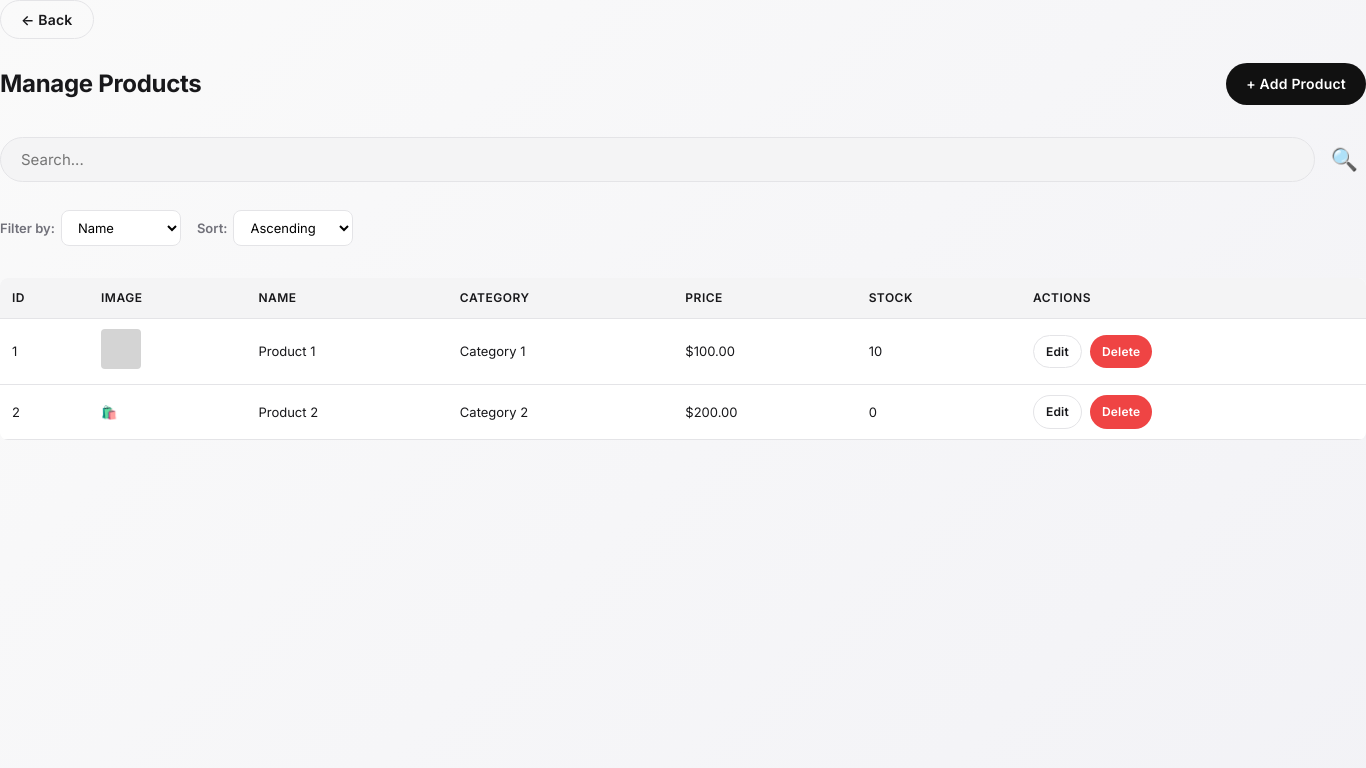
it: AdminProducts › Delete Product › should show confirmation modal when delete clicked
What coordinates should you click on to do the following:
click the button "Delete" in the row of "Product 1"
I would click on:
 (1121, 352)
Its box is [1090,335,1152,368].
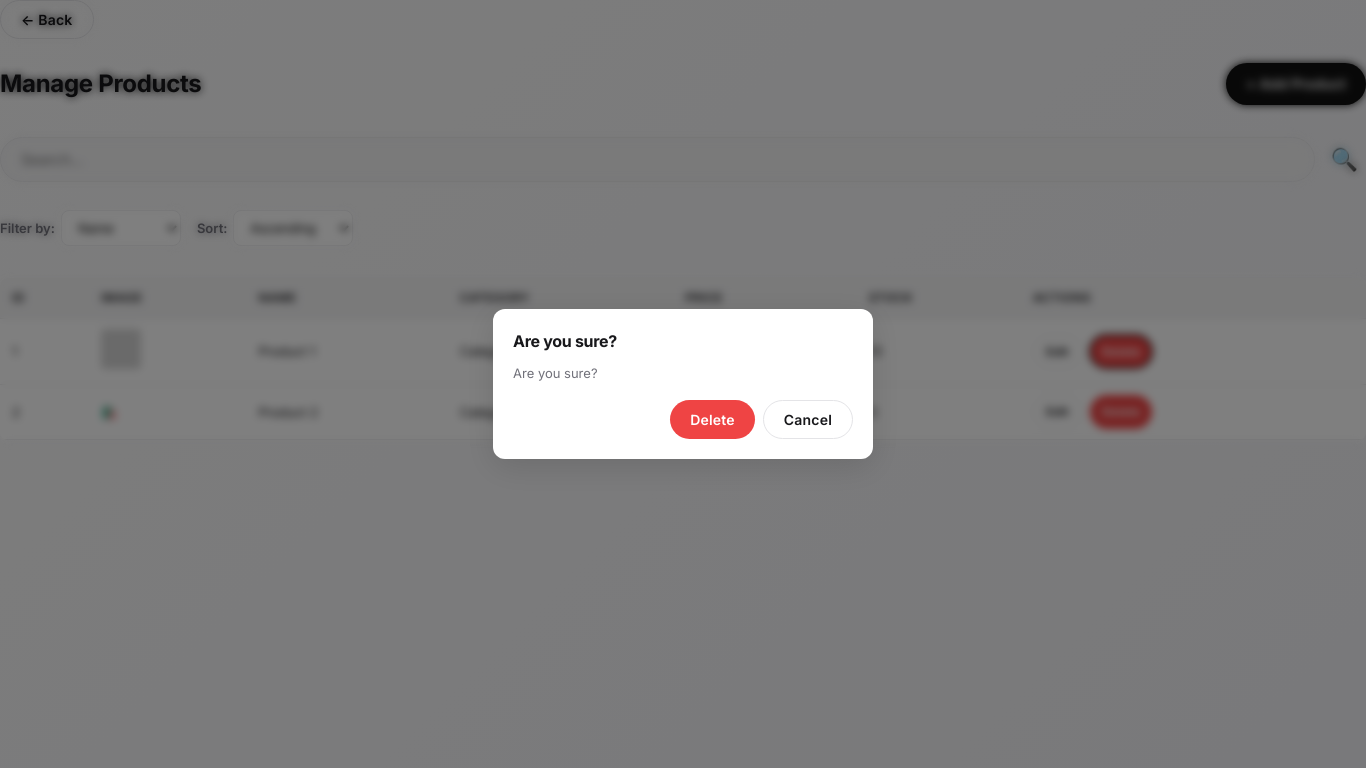
Expected: the number of headings "Are you sure?" is 2, [513,331,617,351]; [513,365,598,381]
